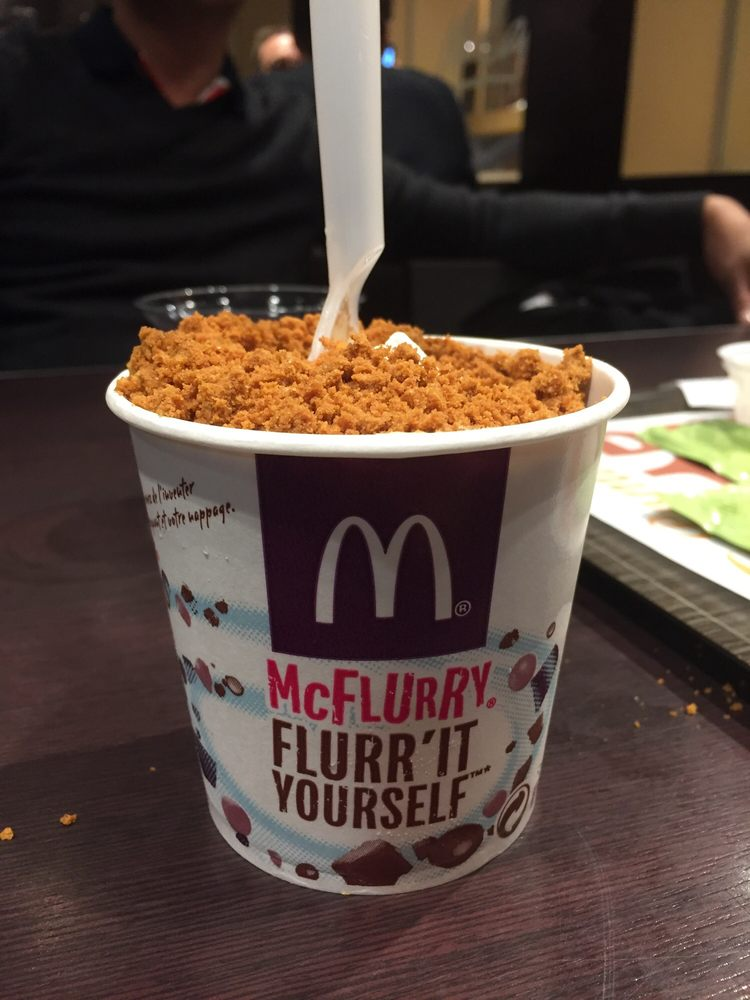mcdonalds: (306, 506, 455, 628)
